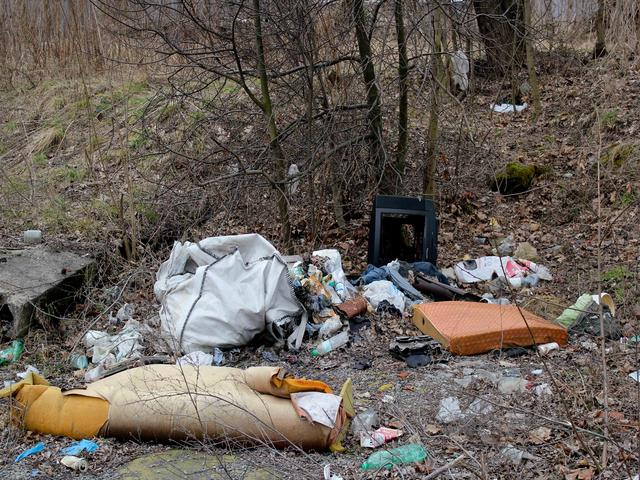garbage: (176, 252, 408, 354)
